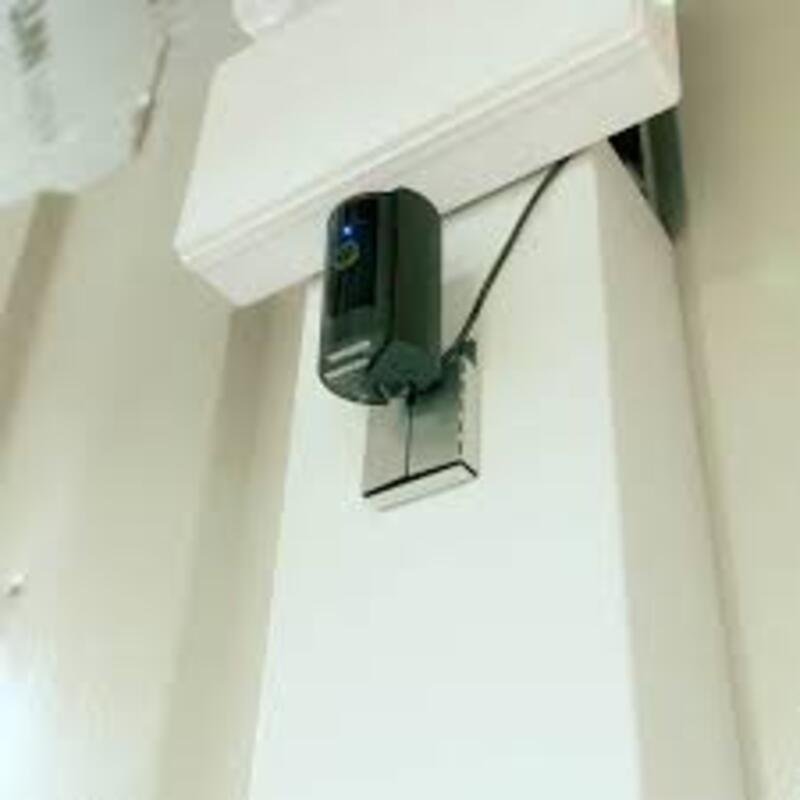doorbell: (317, 196, 417, 391)
